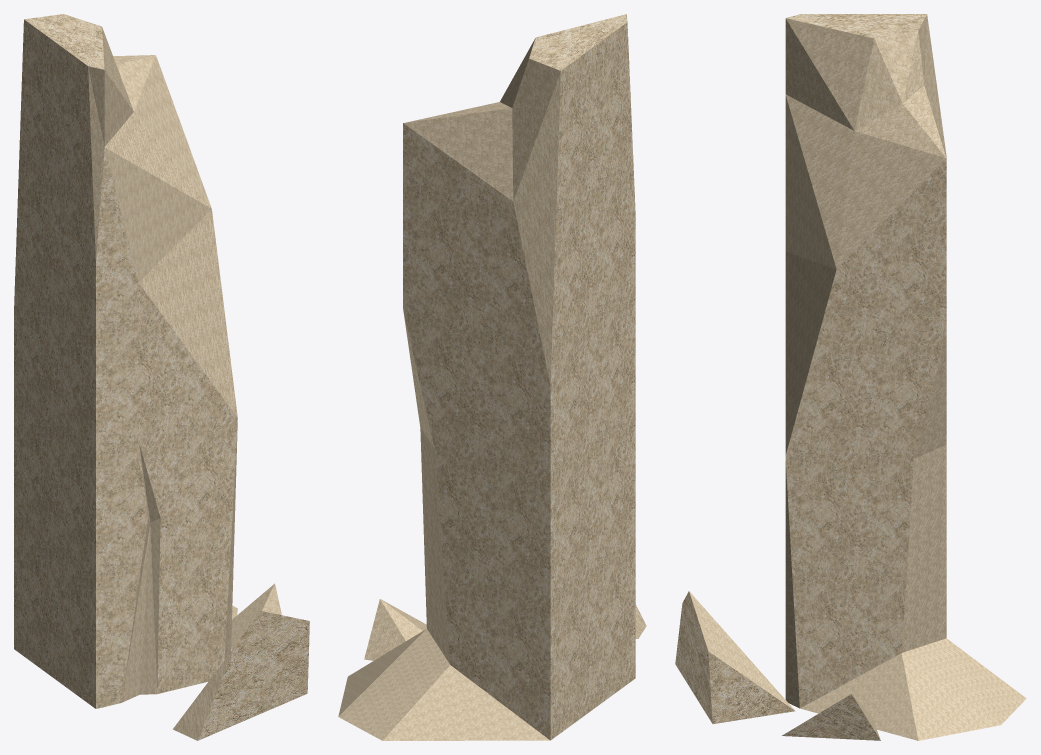
The model's file is thm_tato_imprv_pillar_ruin_s01_l1.fbx.
3 views of the same model, side by side, from view 1: azimuth 30°, elevation 25°; view 2: azimuth 150°, elevation 25°; view 3: azimuth 270°, elevation 25° (orthographic). The views are drawn at different scales.
Parts seen in each view (by area): view 1: mesh_node; view 2: mesh_node; view 3: mesh_node.
Part boxes in pixels (x1,y1,x2,y2): mesh_node: (14, 14, 309, 740); mesh_node: (338, 14, 646, 740); mesh_node: (675, 14, 1026, 740).
Size of the model in its own units: 1.5 by 4.3 by 2.18.
